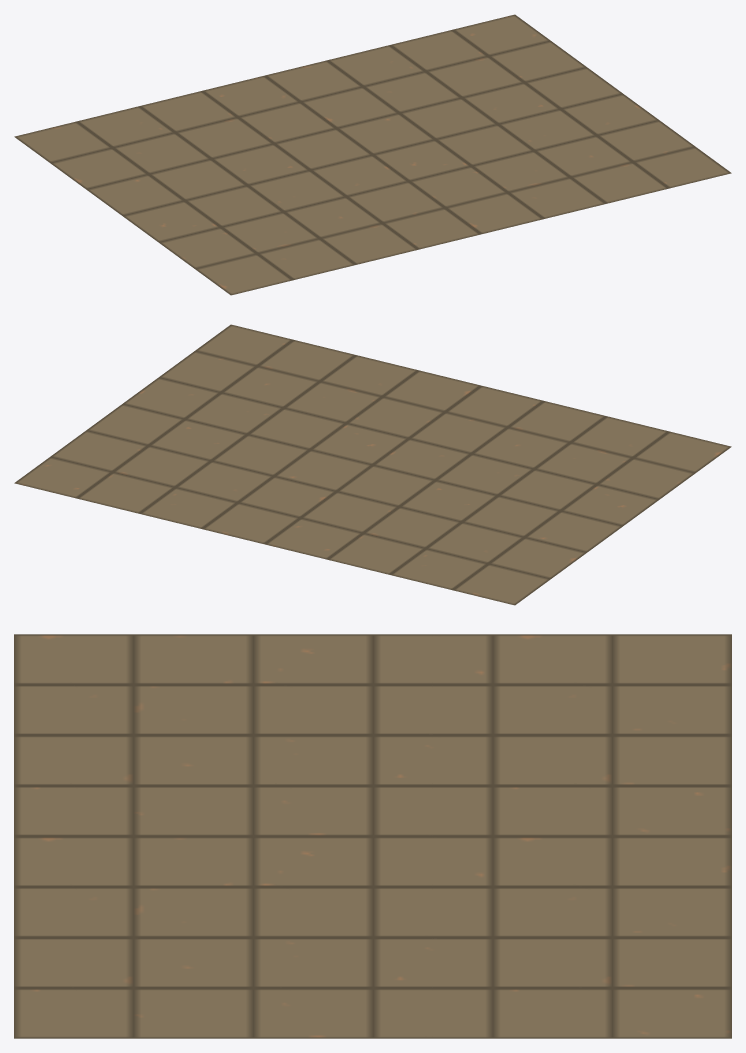
File: SW_ENV_Floor_A_4x3m.fbx
The picture shows the model from 3 angles, top to bottom: view 1: azimuth 30°, elevation 25°; view 2: azimuth 150°, elevation 25°; view 3: azimuth 270°, elevation 25°; orthographic projection. The views are drawn at different scales.
Parts seen in each view (by area): view 1: SW_ENV_Floor_A_4x3m; view 2: SW_ENV_Floor_A_4x3m; view 3: SW_ENV_Floor_A_4x3m.
Boxes of the visible parts, x1,y1,x2,y2 form: SW_ENV_Floor_A_4x3m: [14, 14, 731, 295]; SW_ENV_Floor_A_4x3m: [14, 324, 731, 605]; SW_ENV_Floor_A_4x3m: [14, 634, 731, 1038].
Size of the model in its own units: 400 by 9.34e-05 by 300.
